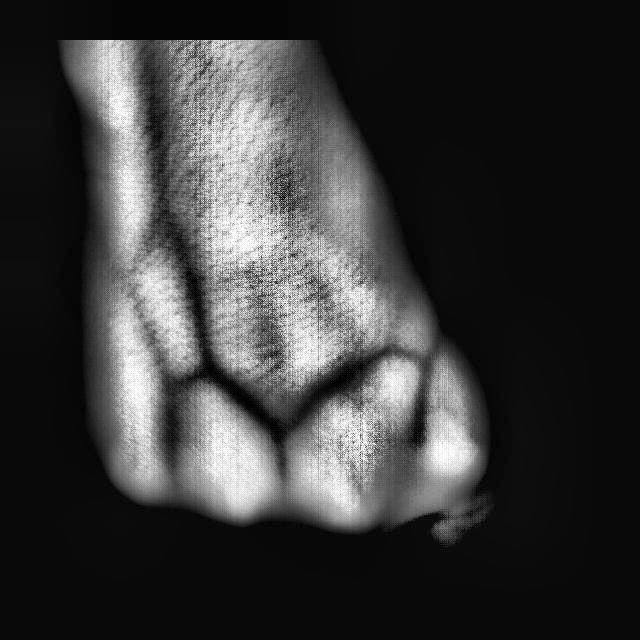Vein: (147, 182, 216, 350)
